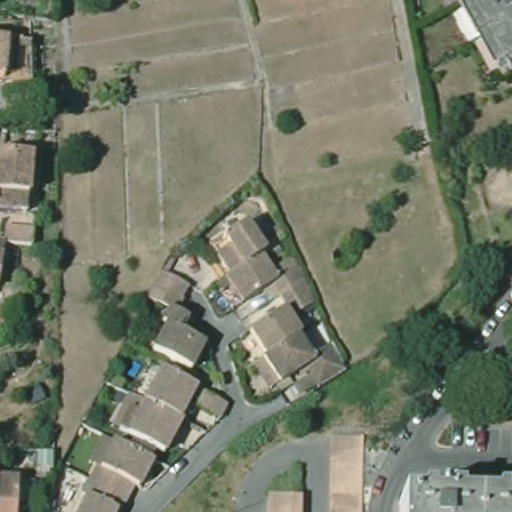pool: (122, 357, 142, 383)
